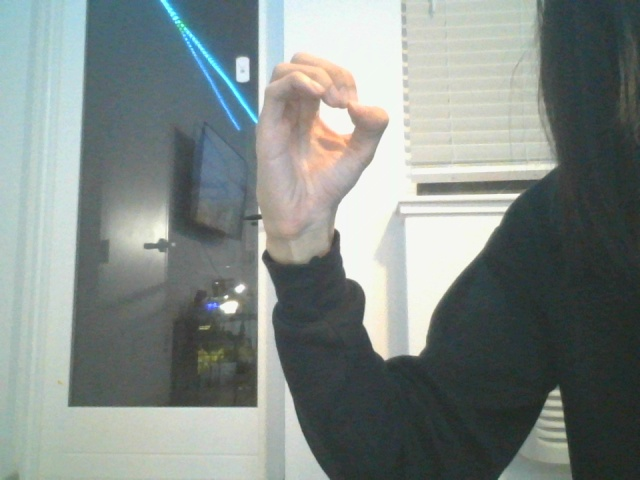o: (250, 50, 388, 263)
